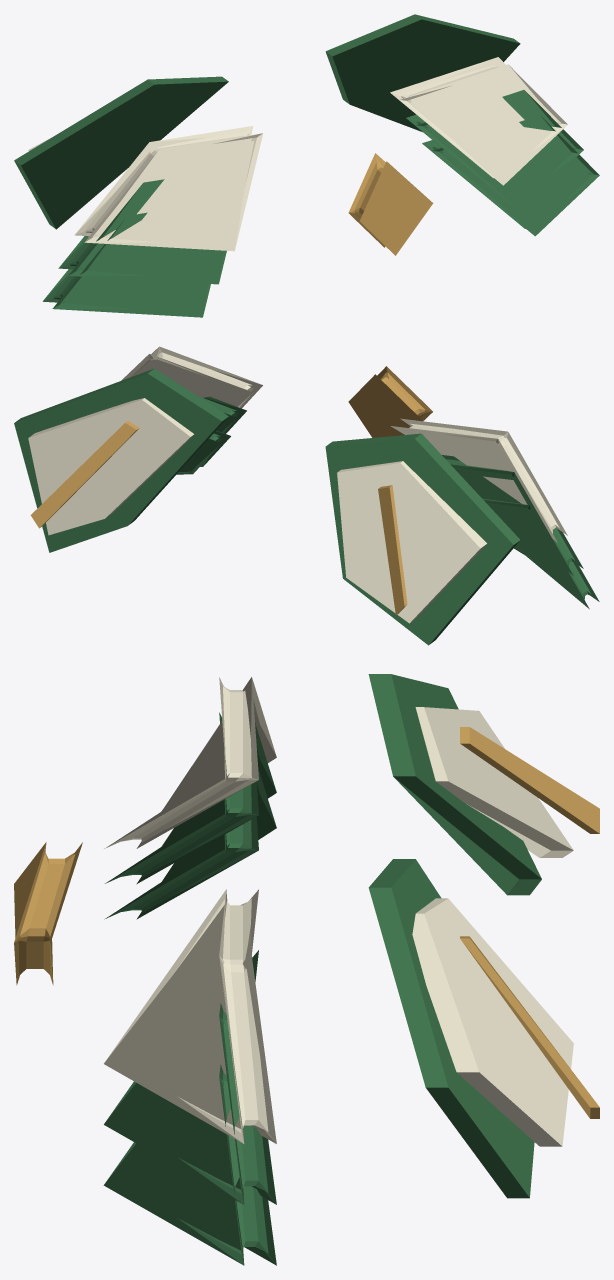
The model's file is ranger-v3.glb.
3 renders of one model, top to bottom at view 1: azimuth 30°, elevation 25°; view 2: azimuth 150°, elevation 25°; view 3: azimuth 270°, elevation 25°, orthographic. The views are drawn at different scales.
Visible parts, largest first — view 1: Warden leaf -1 0, Jade Ranger leaf yoke shadow -1, Jade Ranger leaf yoke shadow 1, Warden leaf 1 0, Warden leaf -1 2, Warden leaf -1 1, Warden brooch, Warden leaf 1 2, Warden leaf 1 1; view 2: Jade Ranger ivory leaf yoke -1, Jade Ranger ivory leaf yoke 1, Jade Ranger leaf yoke shadow -1, Jade Ranger leaf yoke shadow 1, Warden leaf -1 0, Warden leaf 1 0, Warden brooch, Warden leaf -1 2, Warden leaf -1 1, Jade Ranger leaf central vein 1, Jade Ranger leaf central vein -1, Warden leaf 1 2 (+1 smaller); view 3: Warden leaf 1 0, Jade Ranger ivory leaf yoke 1, Jade Ranger leaf yoke shadow 1, Jade Ranger leaf yoke shadow -1, Warden leaf 1 2, Warden leaf 1 1, Jade Ranger ivory leaf yoke -1, Warden leaf -1 0, Warden brooch, Warden leaf -1 2, Warden leaf -1 1, Jade Ranger leaf central vein -1 (+1 smaller).
Boxes of the visible parts, box(x1,y1,x2,y2) form: Warden leaf -1 0: box(74, 126, 263, 251); Jade Ranger leaf yoke shadow -1: box(14, 76, 228, 229); Jade Ranger leaf yoke shadow 1: box(325, 14, 520, 132); Warden leaf 1 0: box(390, 57, 567, 185); Warden leaf -1 2: box(43, 212, 210, 317); Warden leaf -1 1: box(58, 179, 226, 284); Warden brooch: box(348, 153, 433, 255); Warden leaf 1 2: box(422, 115, 599, 236); Warden leaf 1 1: box(406, 90, 583, 210); Jade Ranger ivory leaf yoke -1: box(337, 461, 486, 623); Jade Ranger ivory leaf yoke 1: box(28, 398, 193, 535); Jade Ranger leaf yoke shadow -1: box(325, 433, 520, 645); Jade Ranger leaf yoke shadow 1: box(14, 368, 228, 552); Warden leaf -1 0: box(390, 418, 567, 542); Warden leaf 1 0: box(121, 346, 262, 408); Warden brooch: box(348, 366, 432, 437); Warden leaf -1 2: box(481, 497, 599, 609); Warden leaf -1 1: box(442, 455, 583, 575); Jade Ranger leaf central vein 1: box(30, 421, 139, 528); Jade Ranger leaf central vein -1: box(378, 485, 407, 615); Warden leaf 1 2: box(177, 430, 230, 474); Warden leaf 1 0: box(104, 889, 276, 1143); Jade Ranger ivory leaf yoke 1: box(412, 898, 573, 1146); Jade Ranger leaf yoke shadow 1: box(368, 859, 534, 1198); Jade Ranger leaf yoke shadow -1: box(368, 674, 541, 895); Warden leaf 1 2: box(103, 1064, 276, 1265); Warden leaf 1 1: box(104, 950, 276, 1204); Jade Ranger ivory leaf yoke -1: box(415, 707, 573, 857); Warden leaf -1 0: box(104, 677, 276, 848); Warden brooch: box(14, 842, 82, 985); Warden leaf -1 2: box(104, 769, 276, 919); Warden leaf -1 1: box(105, 712, 276, 884); Jade Ranger leaf central vein -1: box(460, 727, 599, 833).
Size of the model in its own units: 1.27 by 0.368 by 0.7193.
